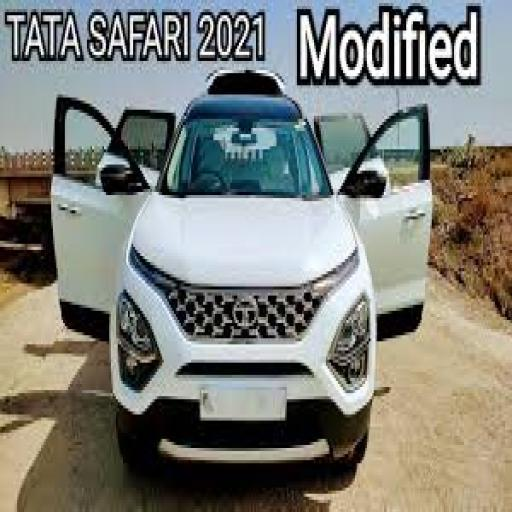car: (45, 64, 466, 496)
